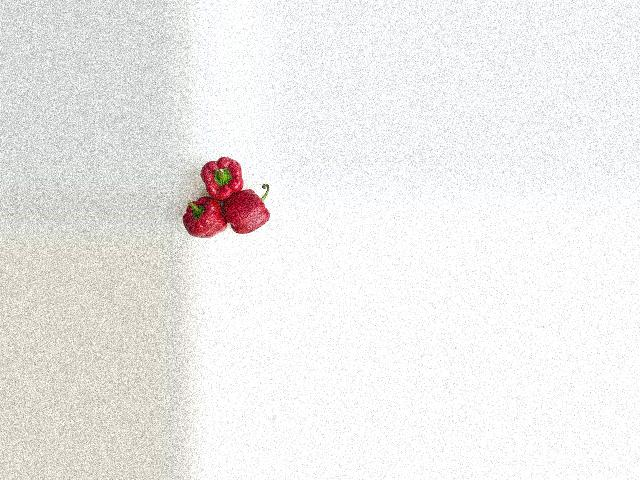bell_pepper: (227, 181, 280, 236)
